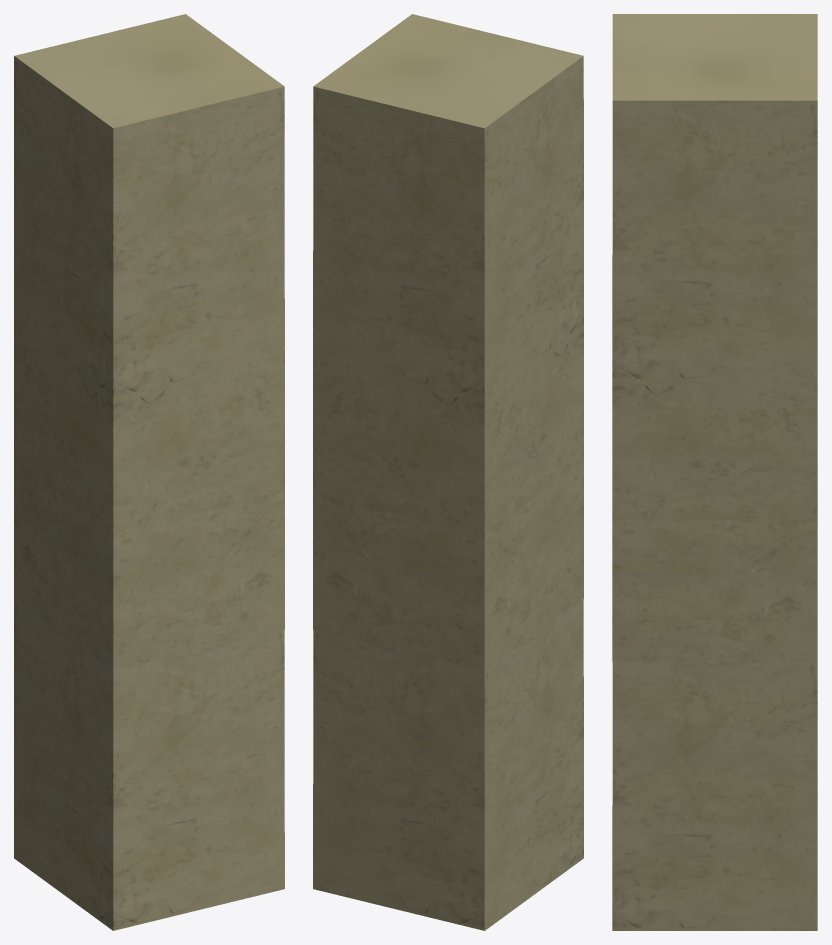
The model's file is Trim_Column_Center.glb.
3 renders of one model, left to right at view 1: azimuth 30°, elevation 25°; view 2: azimuth 150°, elevation 25°; view 3: azimuth 270°, elevation 25°, orthographic. The views are drawn at different scales.
Parts seen in each view (by area): view 1: Trim_Column_Center; view 2: Trim_Column_Center; view 3: Trim_Column_Center.
Boxes of the visible parts, box(x1,y1,x2,y2) form: Trim_Column_Center: box(14, 14, 284, 930); Trim_Column_Center: box(313, 14, 583, 930); Trim_Column_Center: box(612, 14, 817, 930).
Size of the model in its own units: 0.6717 by 3 by 0.6717.
Materials: 1 (1 with a texture image).
